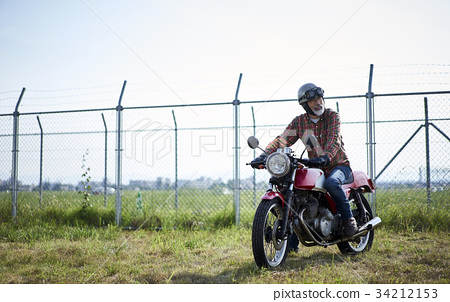helmet: (297, 85, 327, 103)
